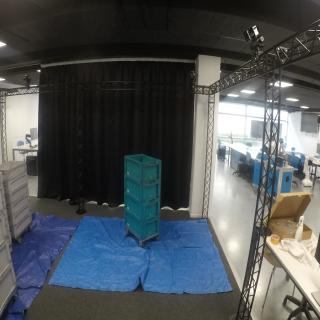BoxB4: (123, 152, 162, 184), (125, 210, 161, 240), (125, 193, 163, 220), (125, 177, 162, 203)
